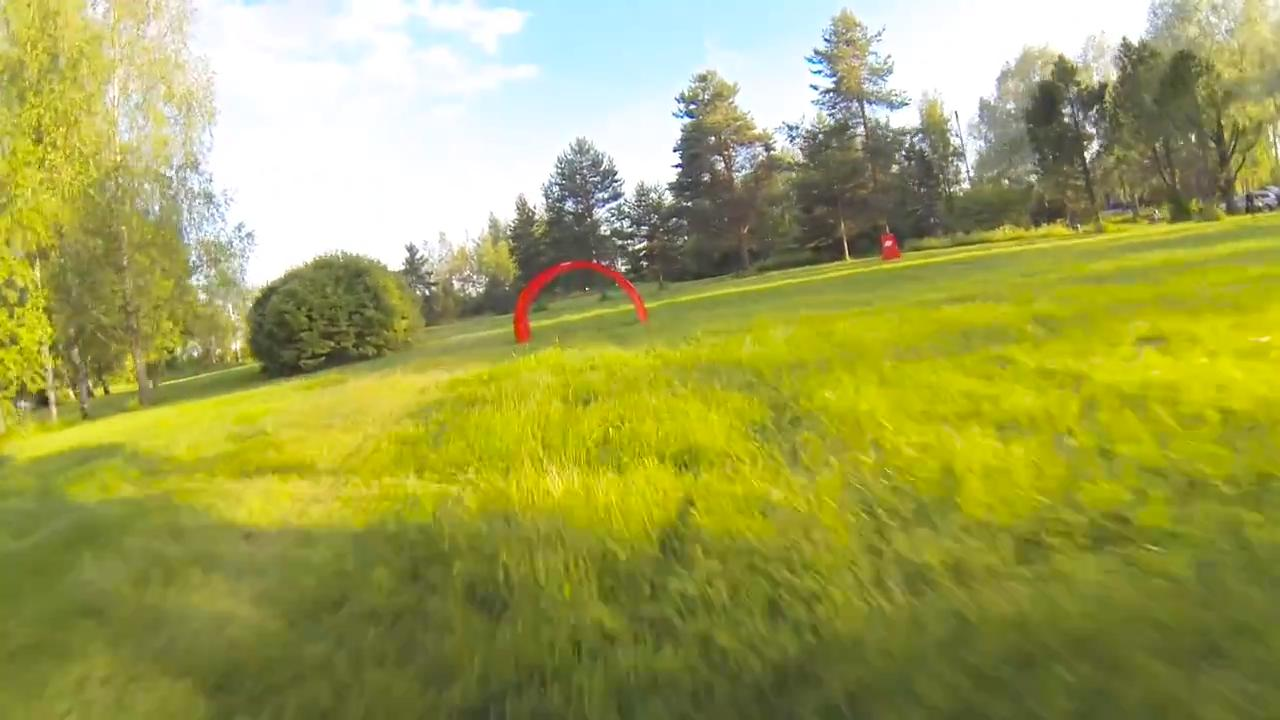gate: (509, 258, 649, 342)
